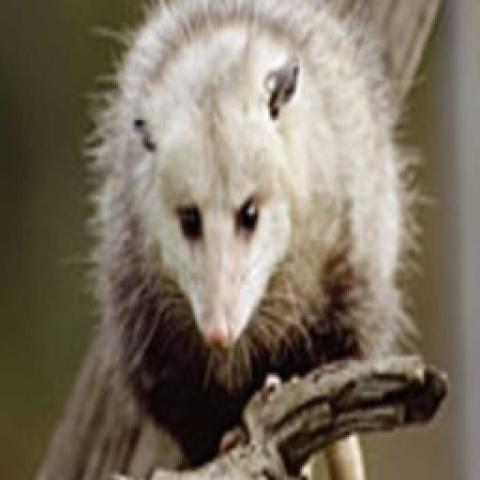small_animal: (94, 0, 406, 469)
